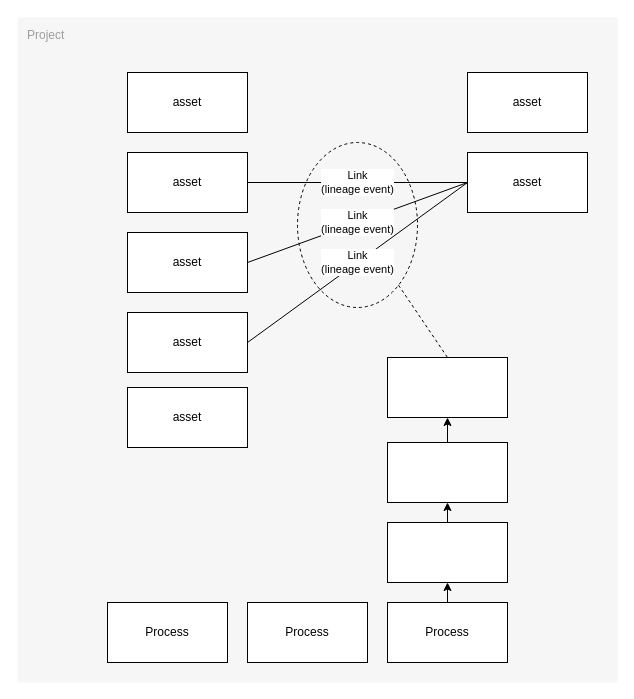
This 634x699 diagram has some shape labels left out. The centre of each missing label's shape, as x and y in pixels:
"Job" goes at pixel 447 552.
"Lineage Events" goes at pixel 447 387.
"Run" goes at pixel 447 472.
